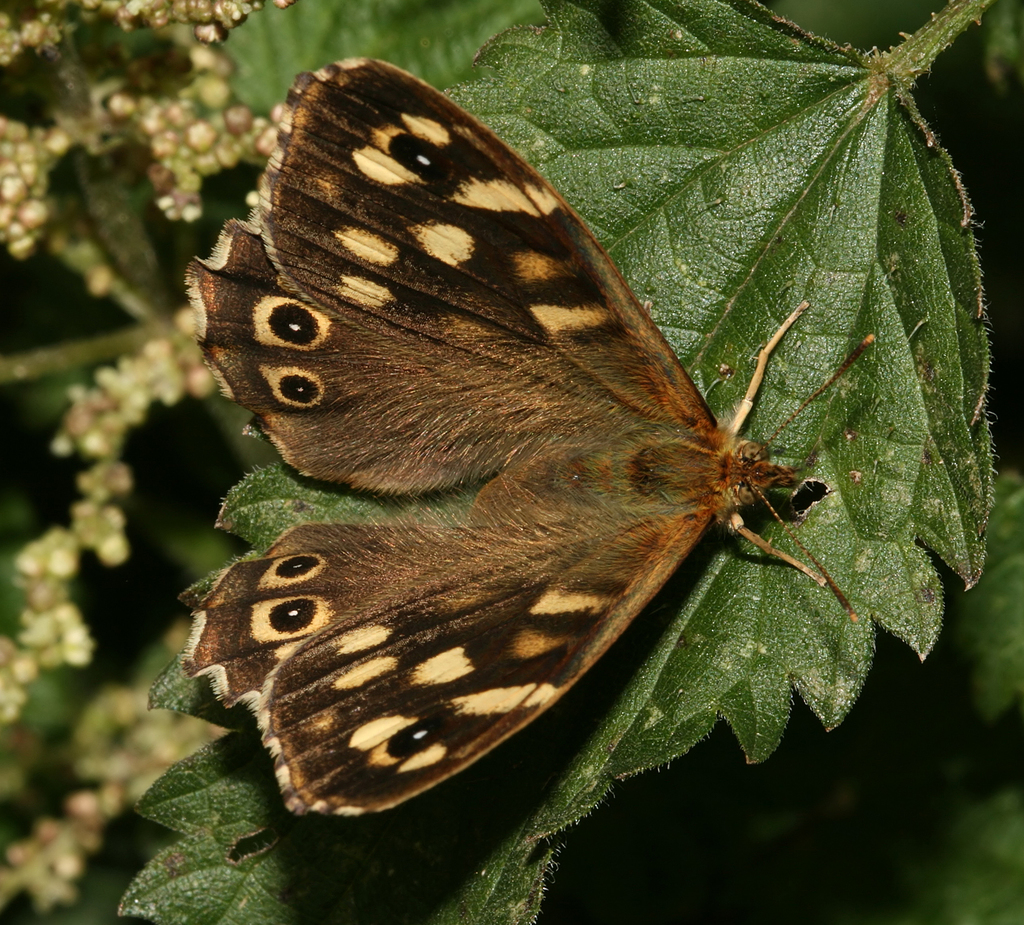Butterfly: (140, 55, 871, 837)
